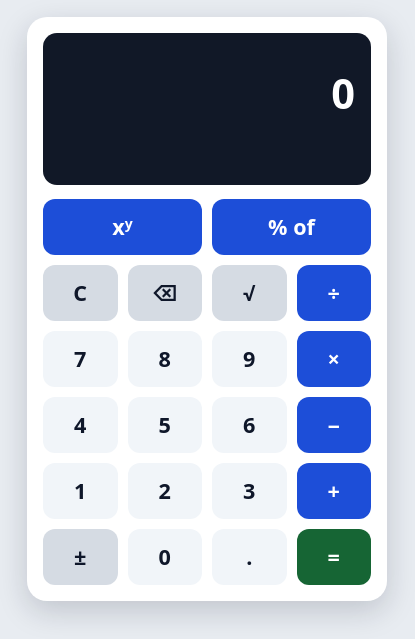
App › clears the error on the next key press
What coordinates should you click on to do the following:
click the button "5"
I would click on:
 (165, 425)
Its box is [128, 397, 202, 453].
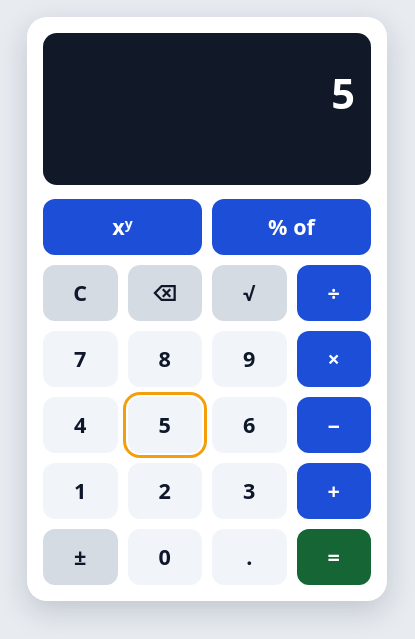
What coordinates should you click on to do the following:
click the button named "divide"
I would click on:
 (334, 293)
Its box is [296, 265, 371, 321].
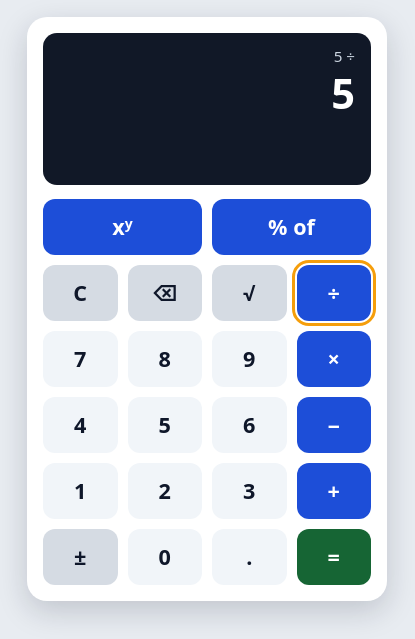
What coordinates should you click on to do the following:
click the button "0"
I would click on:
 (165, 557)
Its box is [128, 529, 202, 585].
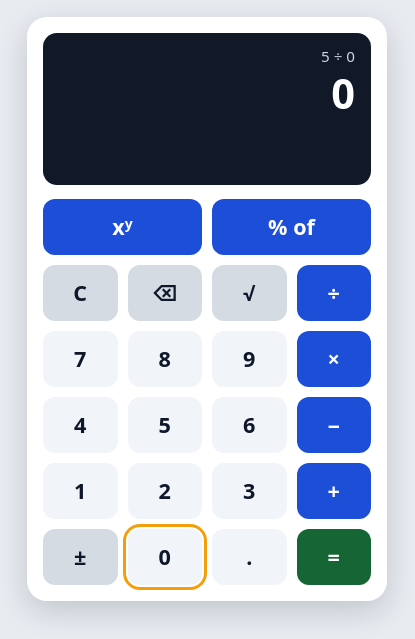
What coordinates should you click on to do the following:
click the button named "equals"
I would click on:
 (334, 557)
Its box is [296, 529, 371, 585].
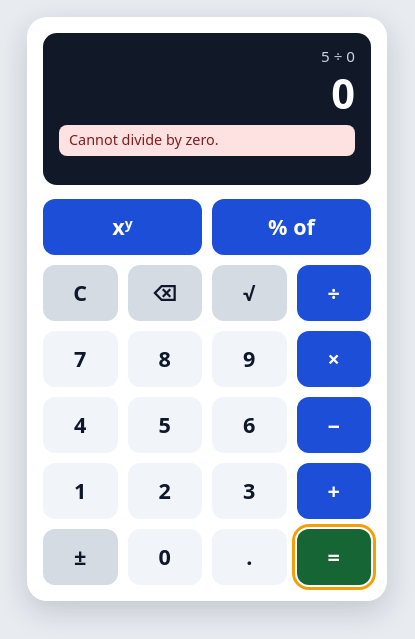
Now the message "Cannot divide by zero." is shown, box [59, 125, 355, 156]
What coordinates should you click on to do the following:
click the button "1"
I would click on:
 (80, 491)
Its box is [43, 463, 118, 519].
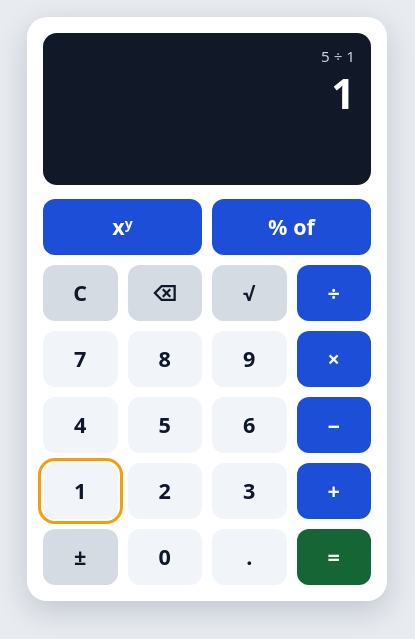
Now the message "Cannot divide by zero." is gone
